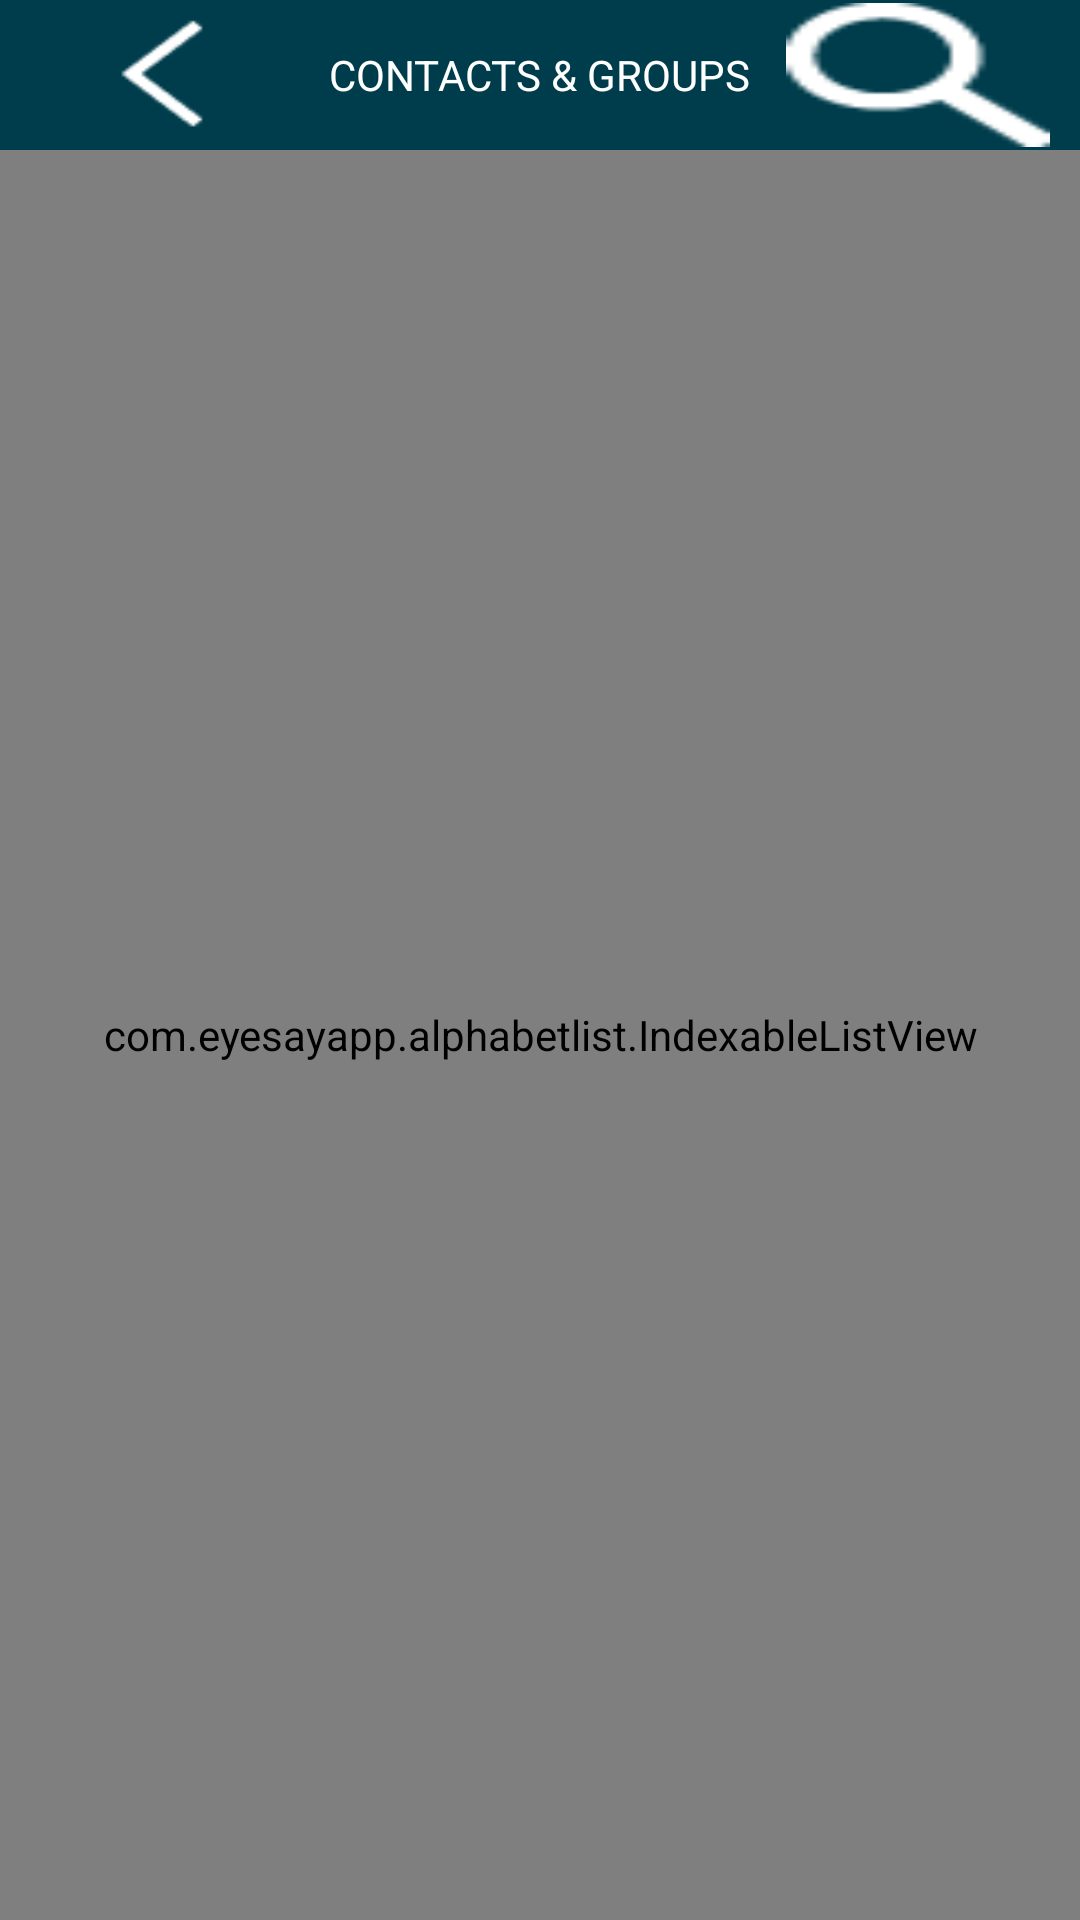

Point at icon controls on the screen. Image size 1080px x 1920px, points as (x=x, y=y).
back arrow: (x=162, y=73)
search: (x=918, y=75)
